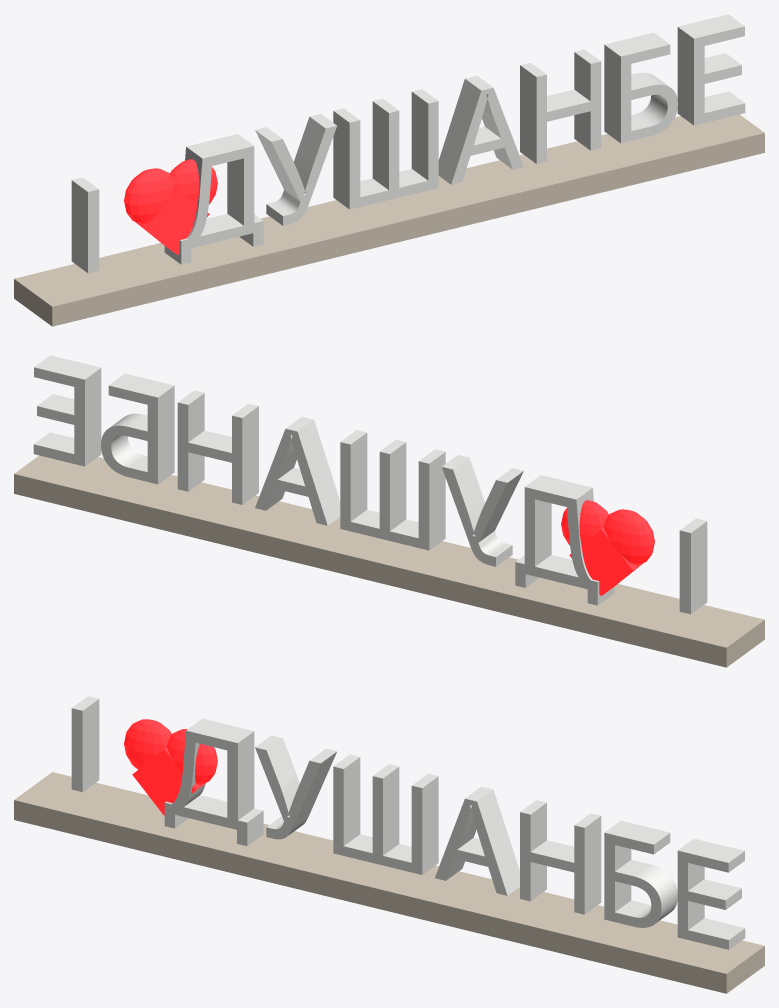
Rendered from love_sign.glb.
The picture shows the model from 3 angles, top to bottom: view 1: azimuth 30°, elevation 25°; view 2: azimuth 150°, elevation 25°; view 3: azimuth 330°, elevation 25°; orthographic projection.
Parts seen in each view (by area): view 1: white, stone_dark, heart_red; view 2: white, stone_dark, heart_red; view 3: white, stone_dark, heart_red.
Part boxes in pixels (bbox=[...]): white: bbox=[71, 14, 745, 273]; stone_dark: bbox=[14, 114, 764, 326]; heart_red: bbox=[124, 159, 217, 254]; white: bbox=[33, 355, 707, 614]; stone_dark: bbox=[14, 455, 764, 667]; heart_red: bbox=[561, 500, 654, 595]; white: bbox=[71, 696, 745, 949]; stone_dark: bbox=[14, 772, 764, 993]; heart_red: bbox=[124, 719, 217, 815].
Size of the model in its own units: 15 by 2.43 by 1.4.
